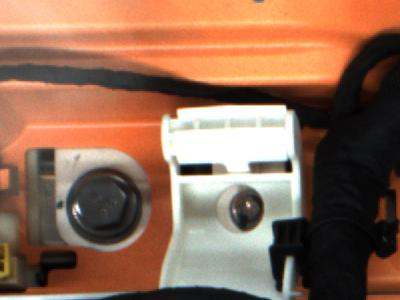nut_b: (50, 148, 158, 249)
